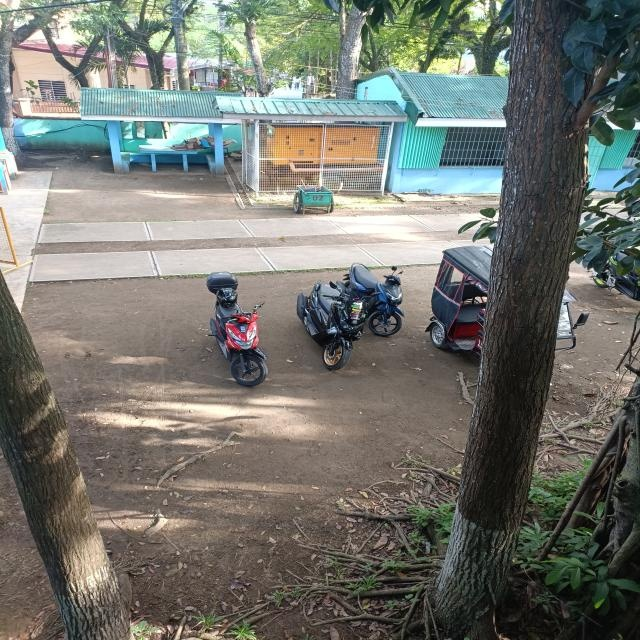Motorcycle: (292, 276, 384, 375), (203, 267, 274, 391), (341, 260, 410, 338)
